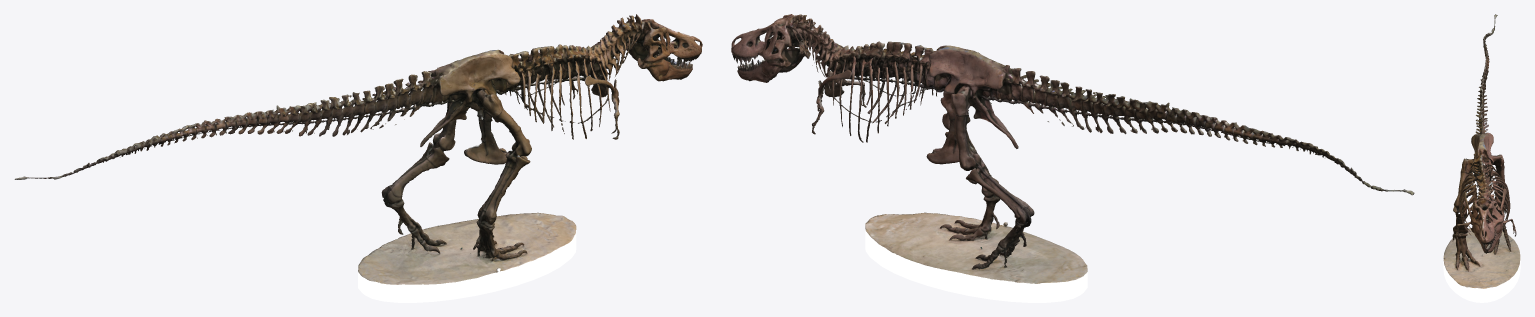
File: trex.glb
3 renders of one model, left to right at view 1: azimuth 30°, elevation 25°; view 2: azimuth 150°, elevation 25°; view 3: azimuth 270°, elevation 25°, orthographic. The views are drawn at different scales.
Visible parts, largest first — view 1: Object_2, Object_3, Object_4; view 2: Object_2, Object_3, Object_4; view 3: Object_2, Object_3, Object_4.
Part boxes in pixels (x1=…): Object_2: x1=14, y1=14, x2=702, y2=284; Object_3: x1=141, y1=18, x2=629, y2=224; Object_4: x1=358, y1=230, x2=576, y2=302; Object_2: x1=731, y1=14, x2=1414, y2=283; Object_3: x1=803, y1=21, x2=1302, y2=231; Object_4: x1=865, y1=229, x2=1087, y2=302; Object_2: x1=1443, y1=14, x2=1520, y2=288; Object_3: x1=1453, y1=42, x2=1510, y2=234; Object_4: x1=1443, y1=256, x2=1520, y2=302.
Size of the model in its own units: 70.47 by 21.16 by 10.94.
Materials: 2 (1 with a texture image).
